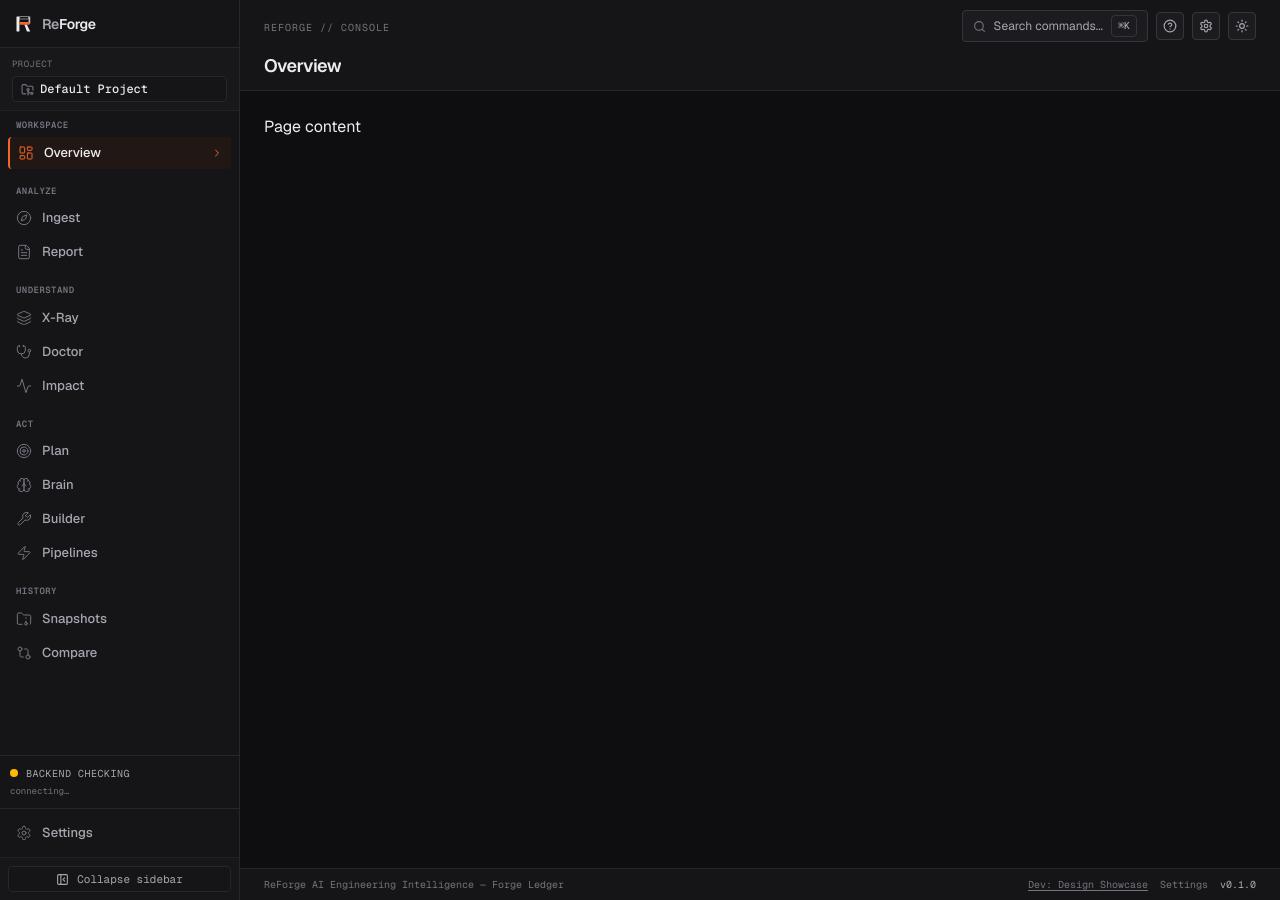
Test case: Console shell — accessibility › labels the collapse toggle and reflects its state
Click the button "Collapse sidebar" at (120, 879), box x1=8 y1=866 x2=231 y2=892
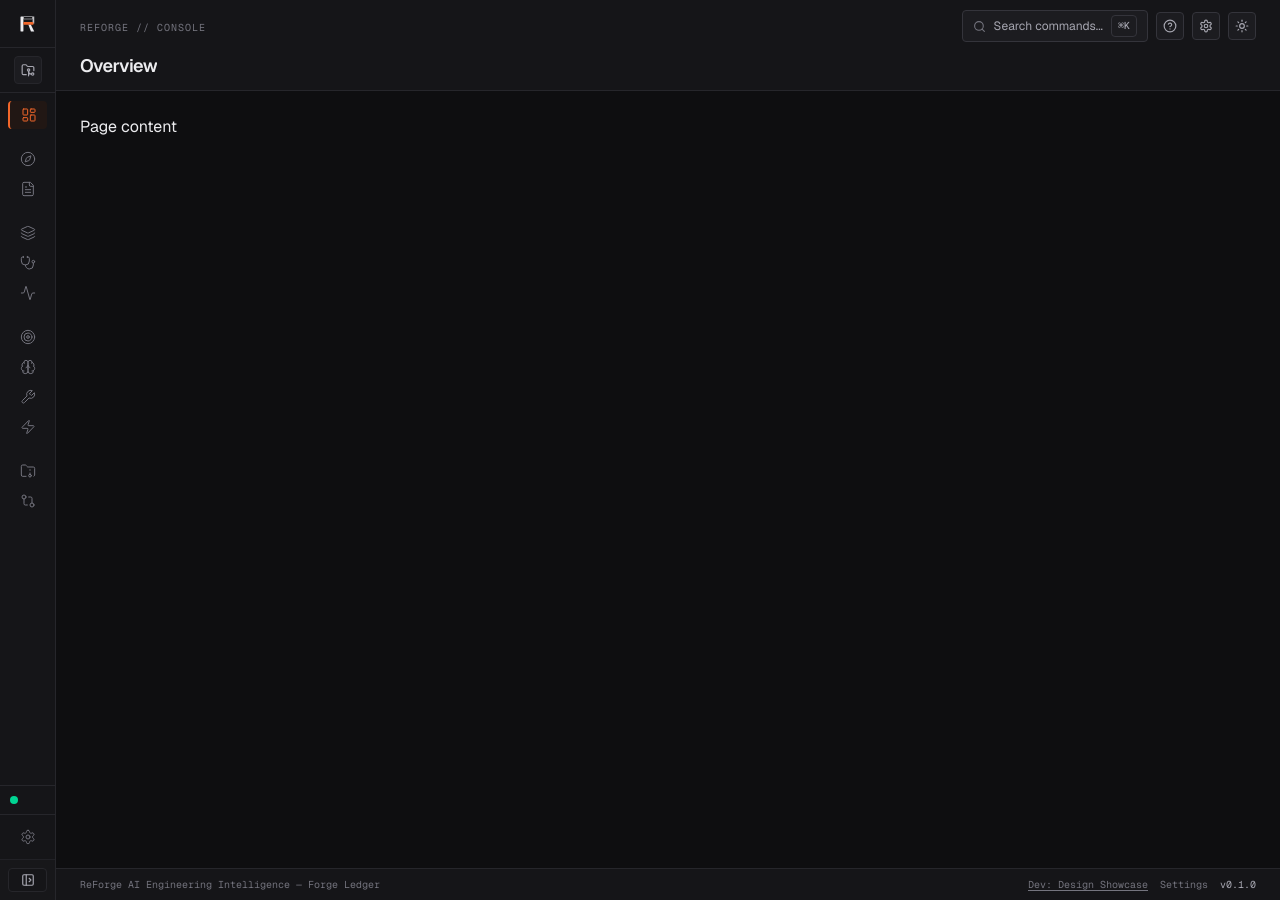
Now the button named "Expand sidebar" is collapsed, box x1=8 y1=868 x2=47 y2=892
